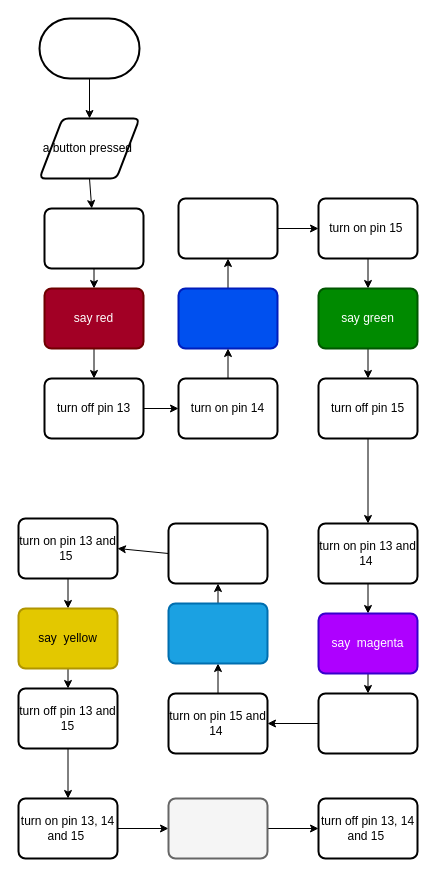
Image size: 435x876. Some labels were removed from this diagram. The box of each missing label's shape, as (x1, y1, x2, y2) in pixels:
say blue: (177, 287, 278, 349)
say cyan: (167, 602, 268, 664)
say white: (167, 797, 268, 859)
Start: (38, 17, 140, 79)
turn off pin 13 and 14: (317, 692, 418, 754)
turn off pin 14: (177, 197, 278, 259)
turn off pin 15 and 14: (167, 522, 268, 584)
turn on pin 13: (43, 207, 144, 269)
